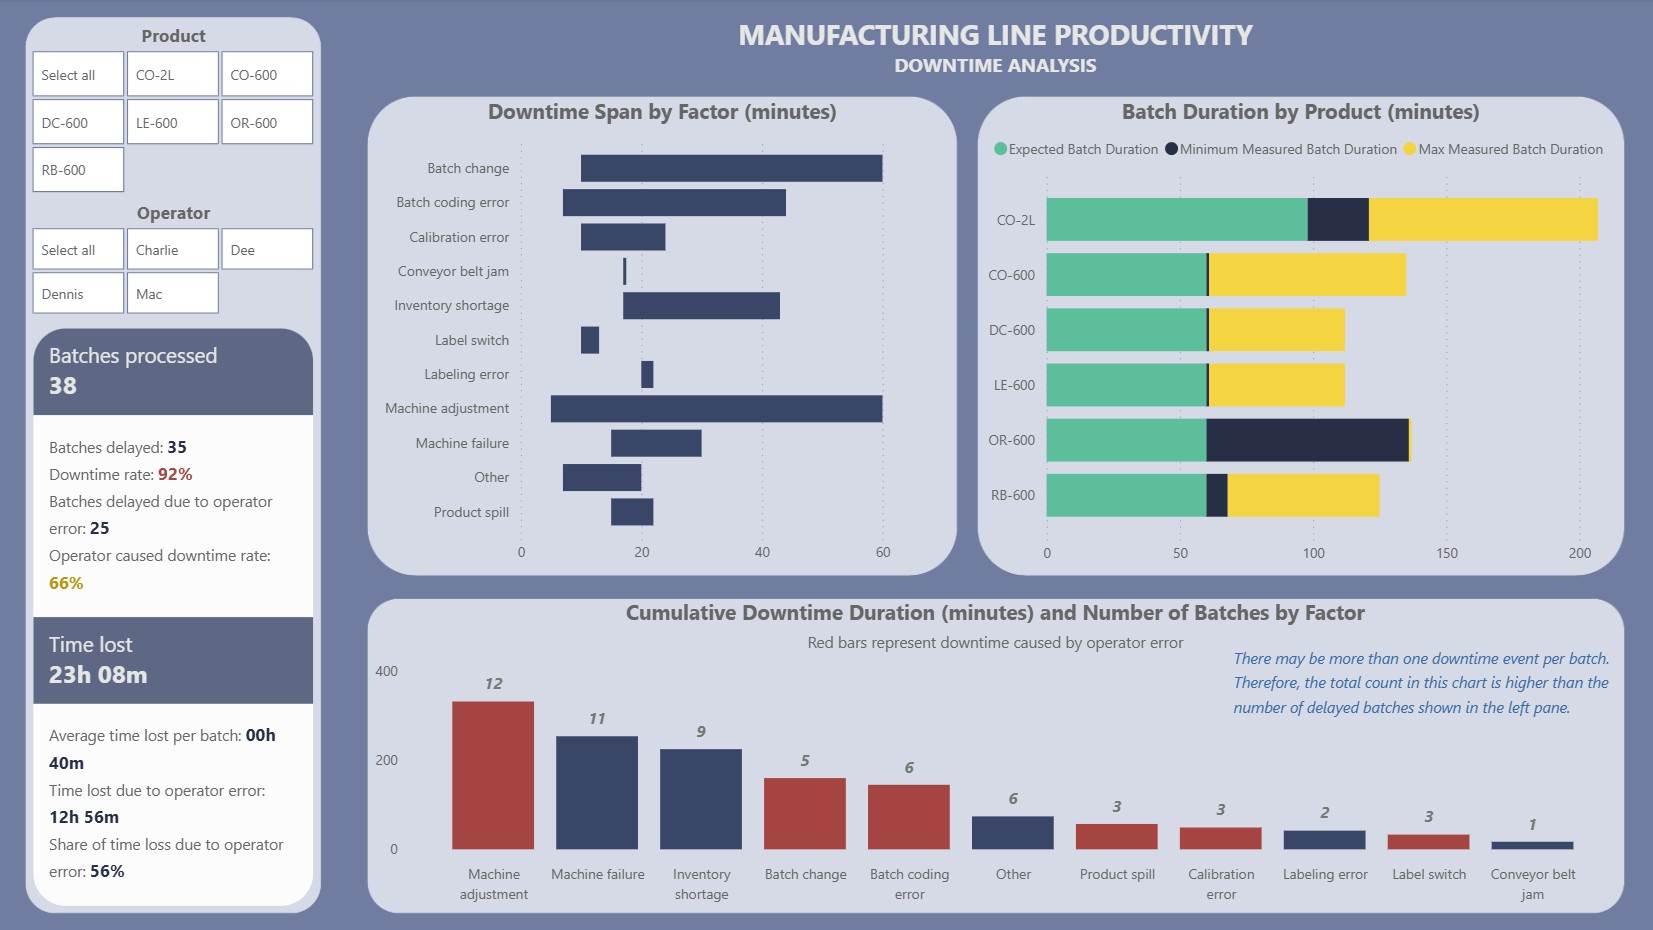

The page's visual inventory and layout, read from the dashboard file:
{"tool":"powerbi","page":{"name":"Downtime Overview","canvas":[1280,720],"ordinal":0},"visuals":[{"type":"cardVisual","fields":{"Data":["Line productivity.TotalBatches","Downtime factors.TimeLost"]},"box":[21.8,249.9,227,456.1],"z":4000},{"type":"advancedSlicerVisual","fields":{"Values":["Line productivity.Operator"]},"box":[20.7,156,228.1,93.8],"z":5000},{"type":"clusteredColumnChart","title":"Cumulative Downtime Duration (minutes) and Number of Batches by Factor","fields":{"Category":["Downtime factors.Description"],"Y":["Downtime factors.DowntimeDuration"]},"box":[284.9,463,969.4,243.2],"z":6000},{"type":"advancedSlicerVisual","fields":{"Values":["Products.Product"]},"box":[20.7,19.6,228.1,136.4],"z":7000},{"type":"barChart","title":"Downtime Span by Factor (minutes)","fields":{"Category":["Downtime factors.Description"],"Y":["Min(Line downtime.Downtime duration)","Line downtime.MaxMin"]},"box":[284.9,75.4,455,370],"z":8000},{"type":"barChart","title":"Batch Duration by Product (minutes)","fields":{"Category":["Products.Product"],"Y":["Min(Products.Min batch time)","Line downtime.MinBatchProduct","Line downtime.MaxBatchProduct"]},"box":[756,75.4,499.2,370],"z":9000},{"type":"textbox","box":[285.3,7.8,969.5,62.1],"z":10000},{"type":"textbox","box":[948.8,493.4,305.3,71.6],"z":10001}]}

Visuals, with their boxes in screenshot pixels (x1, y1, x2, y2), scaled from the page's 1280x720 canvas onto the 1653x930 screenshot:
cardVisual - Line productivity.TotalBatches x Downtime factors.TimeLost: box(28, 323, 321, 912)
advancedSlicerVisual - Line productivity.Operator: box(27, 202, 321, 323)
"Cumulative Downtime Duration (minutes) and Number of Batches by Factor" clusteredColumnChart: box(368, 598, 1620, 912)
advancedSlicerVisual - Products.Product: box(27, 25, 321, 202)
"Downtime Span by Factor (minutes)" barChart: box(368, 97, 956, 575)
"Batch Duration by Product (minutes)" barChart: box(976, 97, 1621, 575)
textbox: box(368, 10, 1620, 90)
textbox: box(1225, 637, 1620, 730)
